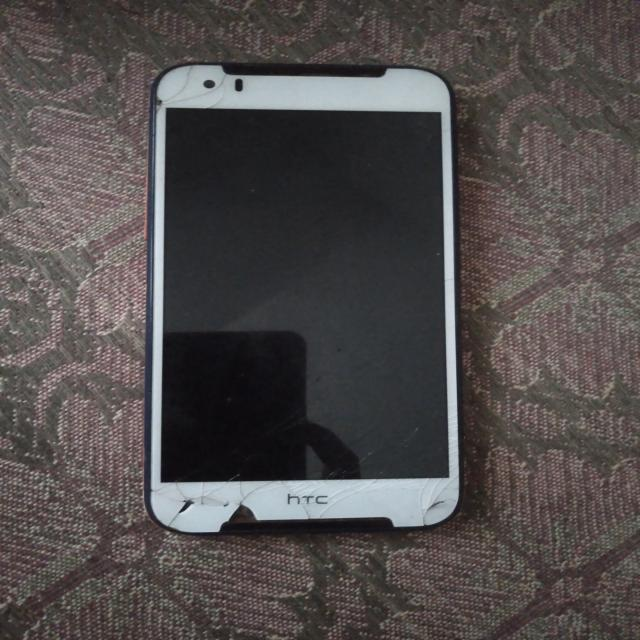Crack: (155, 446, 465, 535), (156, 67, 266, 144)
